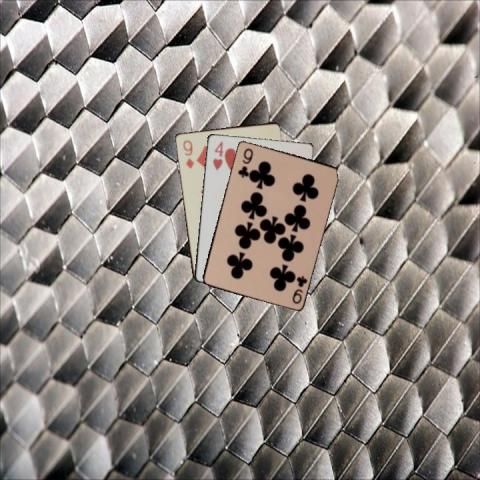4h: (210, 138, 224, 171)
9c: (289, 272, 309, 304), (235, 145, 254, 178)
9d: (179, 137, 195, 170)
